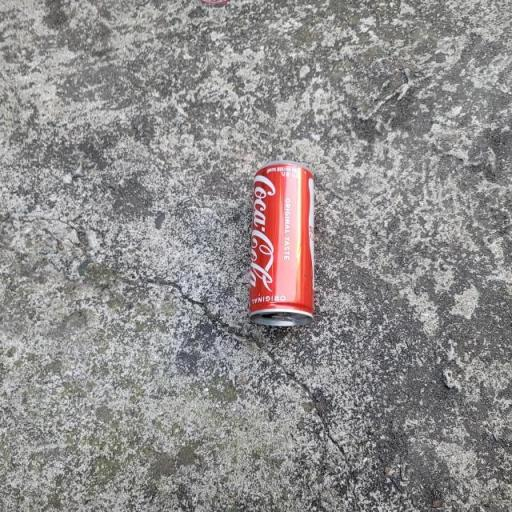metal: (226, 138, 344, 374)
